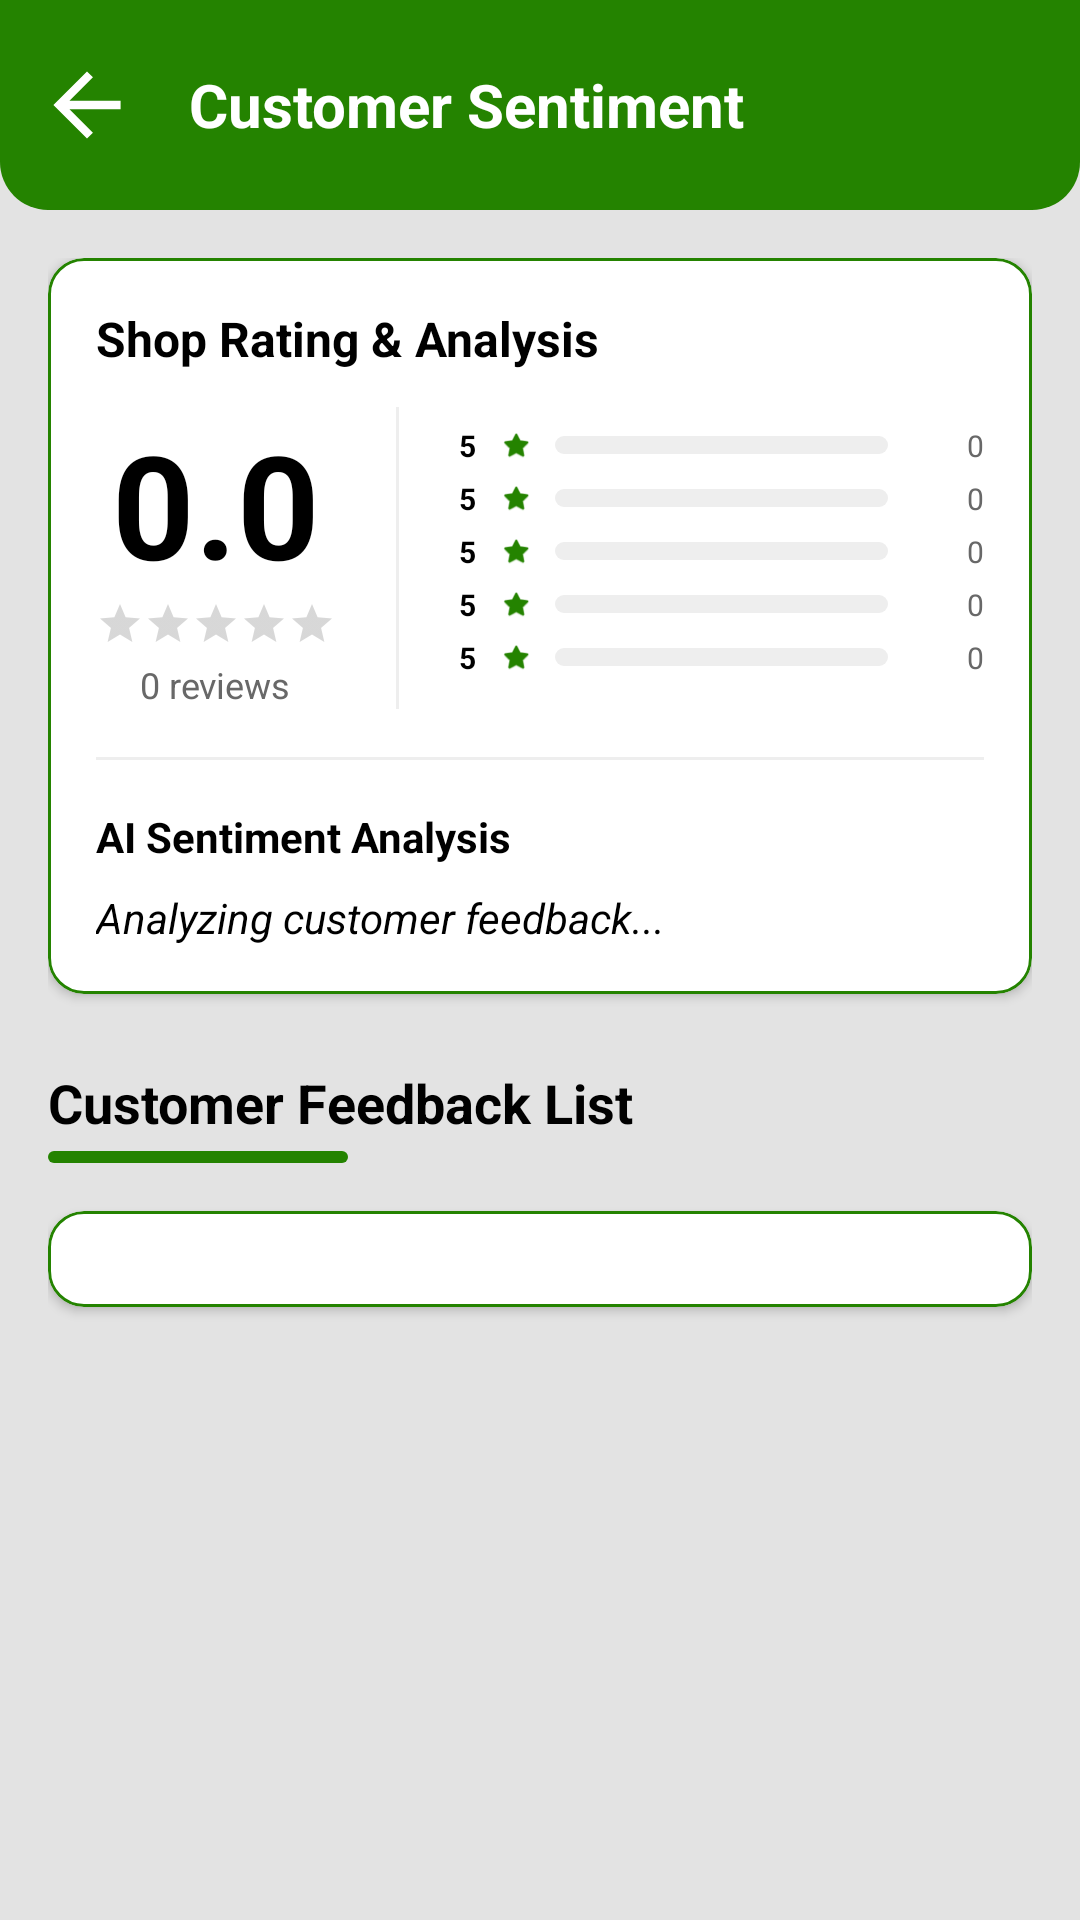

Point at icon controls on the screen. Image size 1080 × 1920, points as point (x, y).
Back: point (87, 105)
star on: point (516, 445), point (516, 498), point (516, 551), point (516, 604), point (516, 657)
